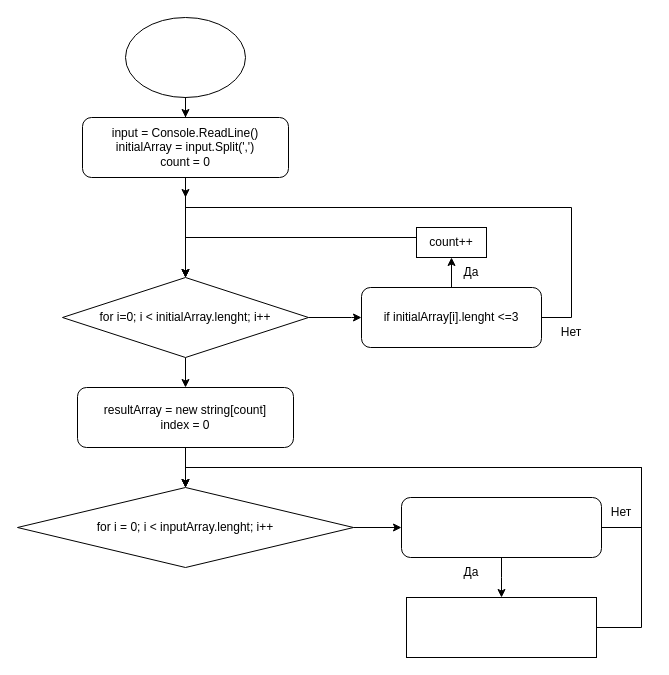
Image size: 669x675. Some labels were removed from this diagram. The centre of each missing label's shape, as x and y in pixels:
"if inputArray.lenght <= 3" belongs at pixel 501 527.
"resultArray[index] = inputArray[i] index++" belongs at pixel 501 627.
"Start" belongs at pixel 185 57.
